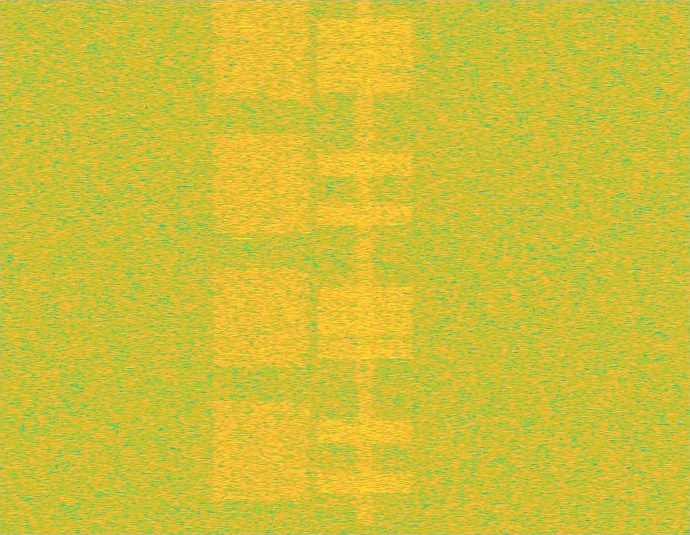5G: (210, 0, 313, 534)
DSSS: (353, 0, 376, 534)
LTE: (313, 0, 417, 534)
Radar: (238, 0, 251, 534)
